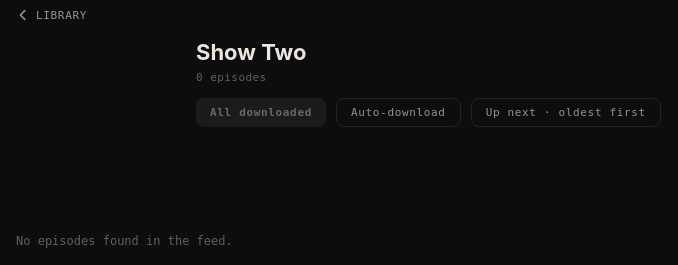
Test: the per-show advance direction › toggles from the new show’s value, and writes under its key
Click the button "Up next · oldest first" at (566, 113), box [471,98,661,127]
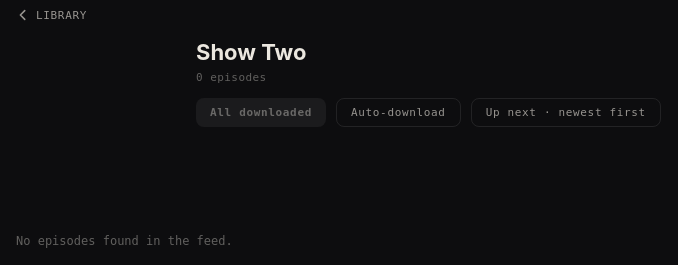
Result: the button "Up next · newest first" is shown at [471,98,661,127]
